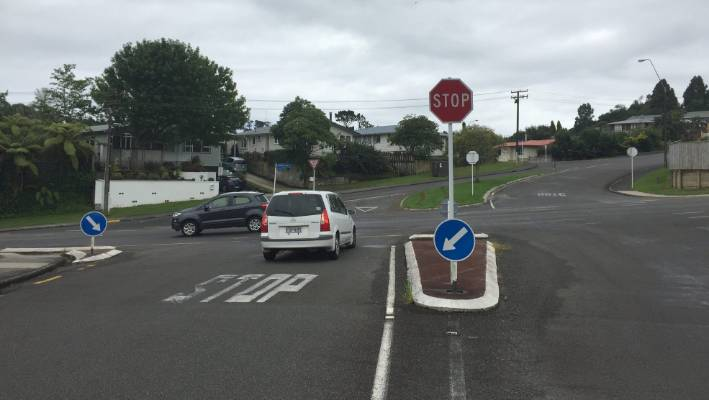stopsign: (429, 78, 474, 122)
